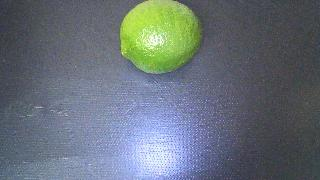EXPORTACION: (120, 0, 202, 74)
